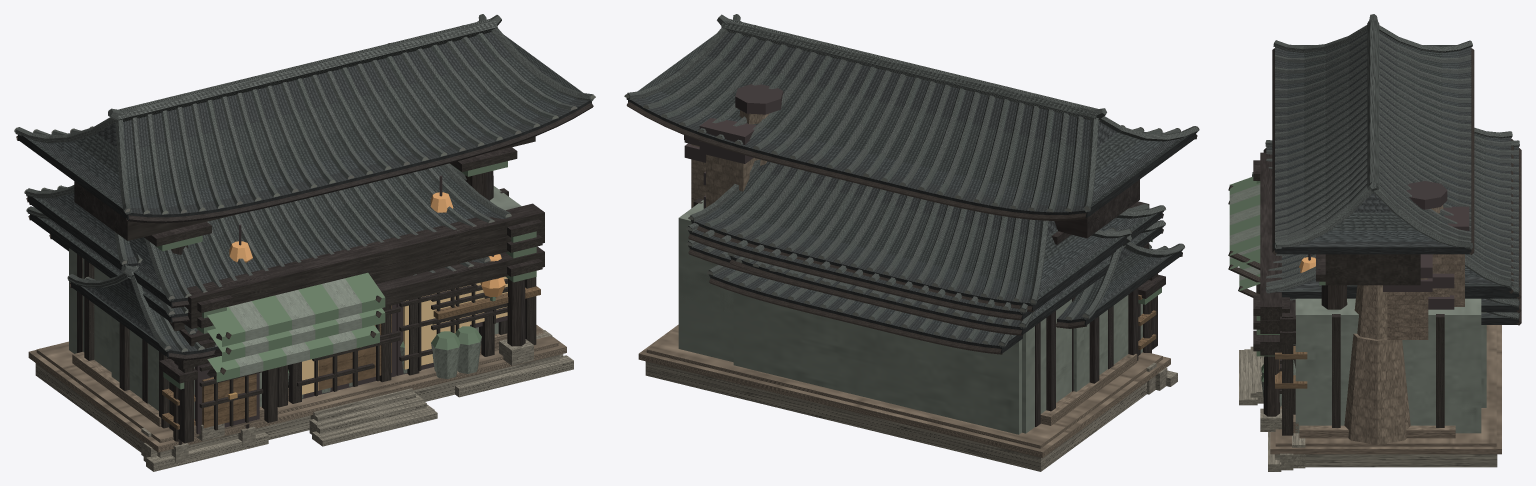
File: regional_workshop.glb
3 renders of one model, left to right at view 1: azimuth 30°, elevation 25°; view 2: azimuth 150°, elevation 25°; view 3: azimuth 270°, elevation 25°, orthographic. The views are drawn at different scales.
Parts seen in each view (by area): view 1: gate, wing, hall, home, cottage, shop; view 2: hall, gate, wing, home, cottage, shop; view 3: gate, wing, hall, home, cottage, shop.
Boxes of the visible parts, <box> form: gate: <box>14,14,595,471</box>; wing: <box>26,164,566,457</box>; hall: <box>24,43,558,462</box>; home: <box>26,209,544,429</box>; cottage: <box>49,234,544,382</box>; shop: <box>26,206,494,407</box>; hall: <box>646,84,1184,448</box>; gate: <box>624,14,1199,425</box>; wing: <box>638,118,1170,471</box>; home: <box>678,171,1165,432</box>; cottage: <box>703,195,1149,354</box>; shop: <box>684,141,1165,432</box>; gate: <box>1268,14,1474,471</box>; wing: <box>1228,140,1521,467</box>; hall: <box>1244,127,1513,446</box>; home: <box>1228,201,1521,435</box>; cottage: <box>1238,259,1521,414</box>; shop: <box>1279,254,1464,393</box>.
Size of the model in its own units: 2.25 by 1.44 by 1.36.
Materials: 1 (1 with a texture image).
